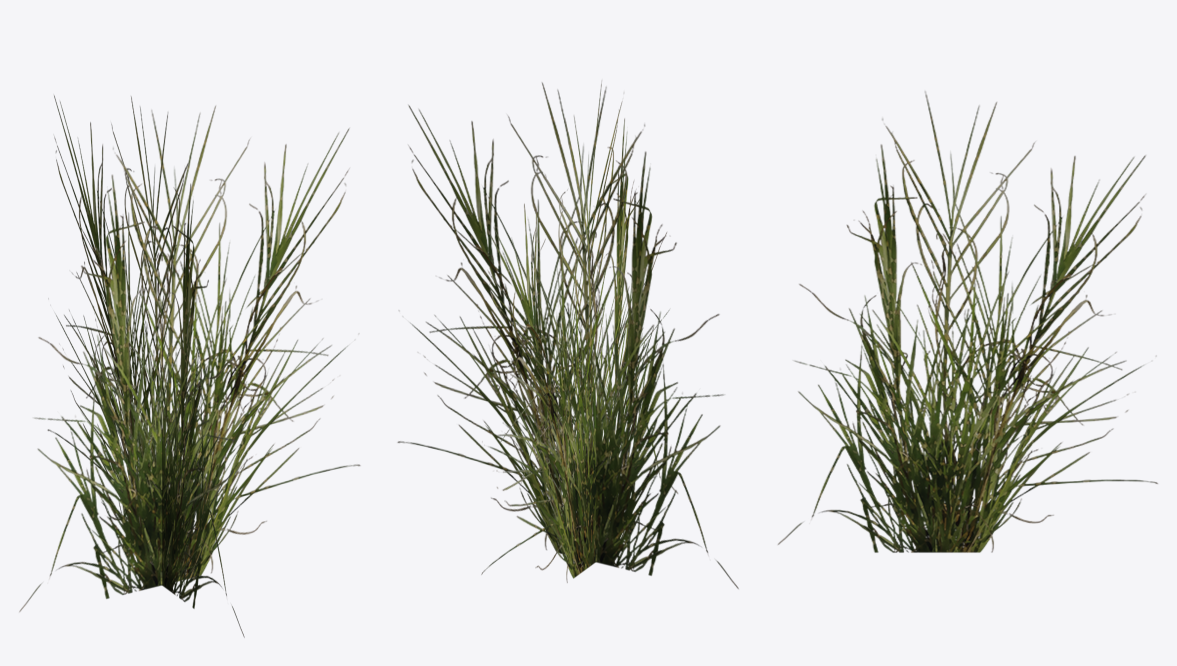
The model's file is khus.glb.
The picture shows the model from 3 angles, left to right: view 1: azimuth 30°, elevation 25°; view 2: azimuth 150°, elevation 25°; view 3: azimuth 270°, elevation 25°; orthographic projection. The views are drawn at different scales.
Visible parts, largest first — view 1: khus; view 2: khus; view 3: khus.
Boxes of the visible parts, <box> form: khus: <box>19,95,360,637</box>; khus: <box>397,80,738,588</box>; khus: <box>777,91,1157,552</box>.
Size of the model in its own units: 1.44 by 1.92 by 1.44.
1 material, 1 textured.
